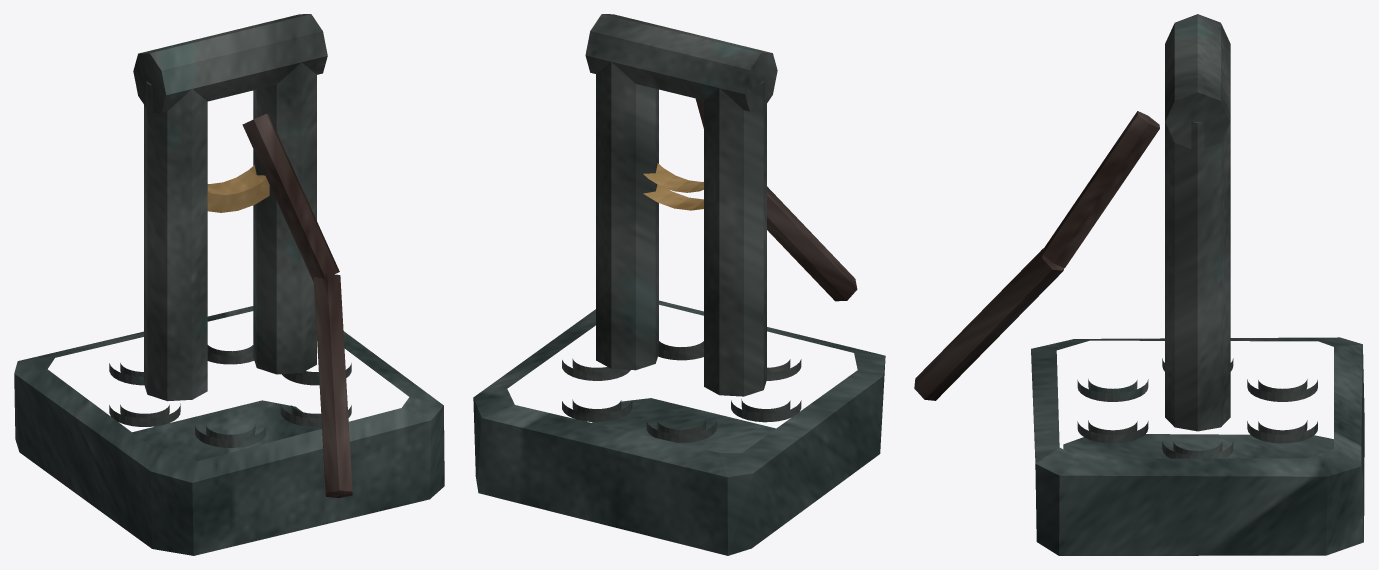
Rendered from 0686_rope_anchor_11.glb.
3 views of the same model, side by side, from view 1: azimuth 30°, elevation 25°; view 2: azimuth 150°, elevation 25°; view 3: azimuth 270°, elevation 25° (orthographic).
Visible parts, largest first — view 1: iron, stone_dark, wood_dark, brass; view 2: iron, stone_dark, wood_dark, brass; view 3: stone_dark, iron, wood_dark.
Boxes of the visible parts, x1,y1,x2,y2 form: iron: [109, 14, 351, 447]; stone_dark: [14, 306, 444, 555]; wood_dark: [242, 113, 352, 497]; brass: [207, 165, 269, 212]; iron: [562, 14, 801, 442]; stone_dark: [473, 300, 885, 555]; wood_dark: [695, 98, 857, 301]; brass: [643, 163, 703, 210]; stone_dark: [1031, 337, 1364, 555]; iron: [1077, 14, 1317, 458]; wood_dark: [914, 111, 1159, 400].
Size of the model in its own units: 1.22 by 1.78 by 1.65.
Materials: 4 (4 with a texture image).
